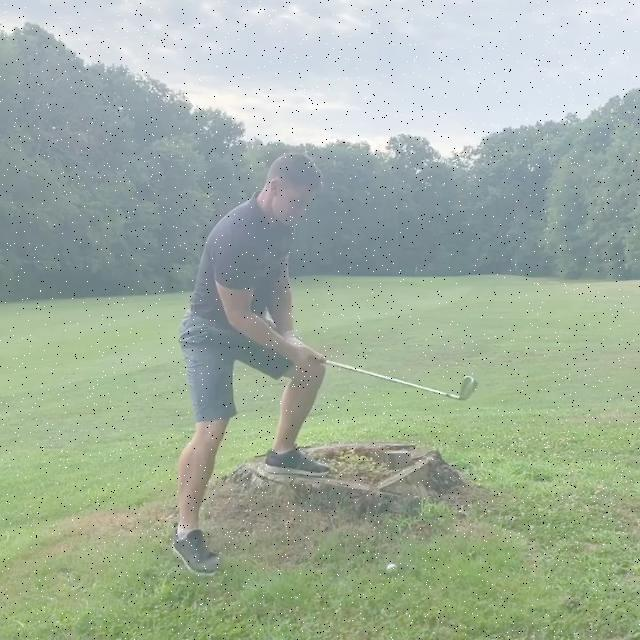golf ball: (387, 565, 397, 571)
golf club-handle: (325, 360, 479, 401)
golf club-head: (458, 376, 478, 401)
